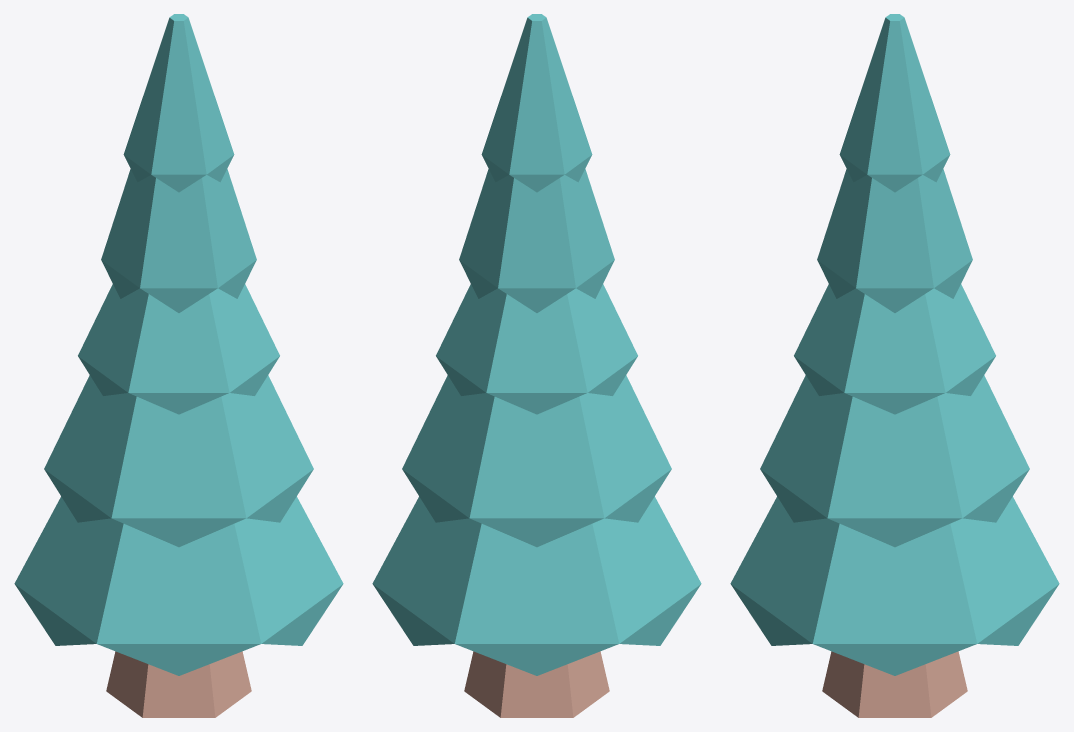
Rendered from tree_pineRoundC.glb.
3 renders of one model, left to right at view 1: azimuth 30°, elevation 25°; view 2: azimuth 150°, elevation 25°; view 3: azimuth 270°, elevation 25°, orthographic.
Parts seen in each view (by area): view 1: tree_pineRoundC; view 2: tree_pineRoundC; view 3: tree_pineRoundC.
Boxes of the visible parts, bbox=[...] form: tree_pineRoundC: bbox=[14, 14, 343, 717]; tree_pineRoundC: bbox=[372, 14, 701, 717]; tree_pineRoundC: bbox=[730, 14, 1059, 717].
Bounding box in the file's own units: 0.4804 × 1.25 × 0.5547.
